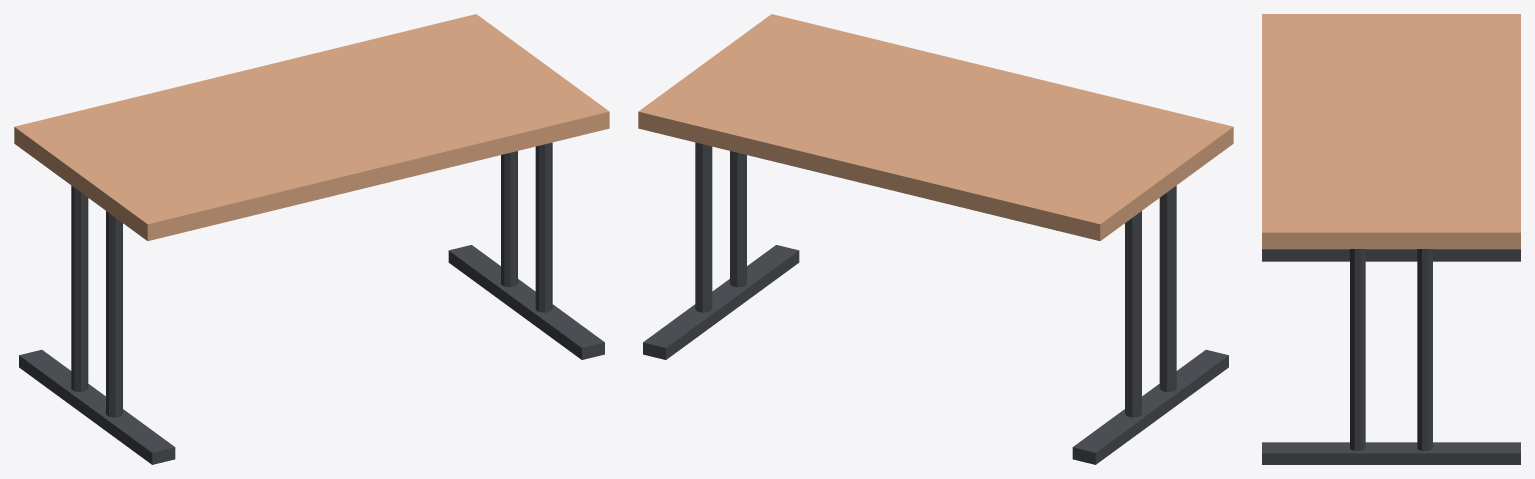
File: Pipeleg2m.fbx
3 views of the same model, side by side, from view 1: azimuth 30°, elevation 25°; view 2: azimuth 150°, elevation 25°; view 3: azimuth 270°, elevation 25° (orthographic). The views are drawn at different scales.
Parts seen in each view (by area): view 1: PutkijalkatableShorter; view 2: PutkijalkatableShorter; view 3: PutkijalkatableShorter.
Boxes of the visible parts, x1,y1,x2,y2 form: PutkijalkatableShorter: (14,14,609,464); PutkijalkatableShorter: (638,14,1233,464); PutkijalkatableShorter: (1262,14,1520,464).
Size of the model in its own units: 200 by 100 by 100.
